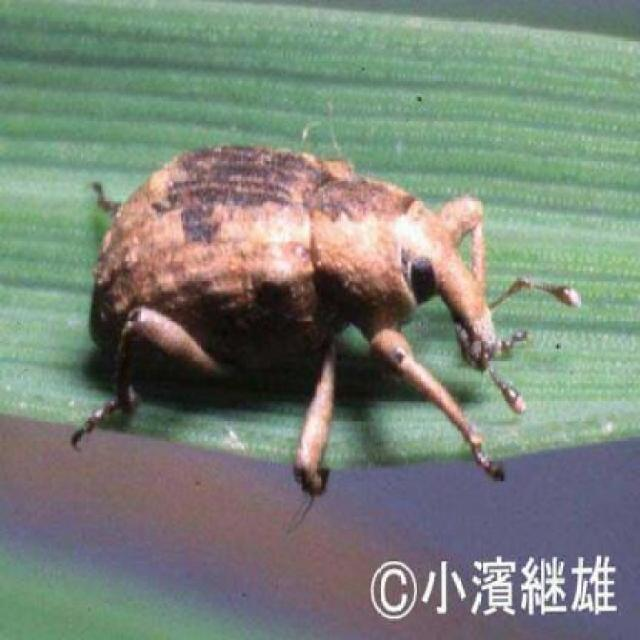rice-bug: (86, 138, 512, 460)
